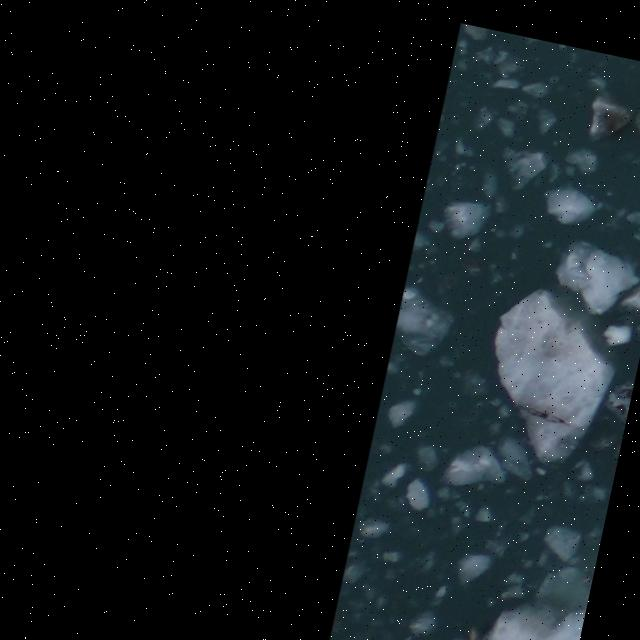seal: (458, 615, 526, 640)
